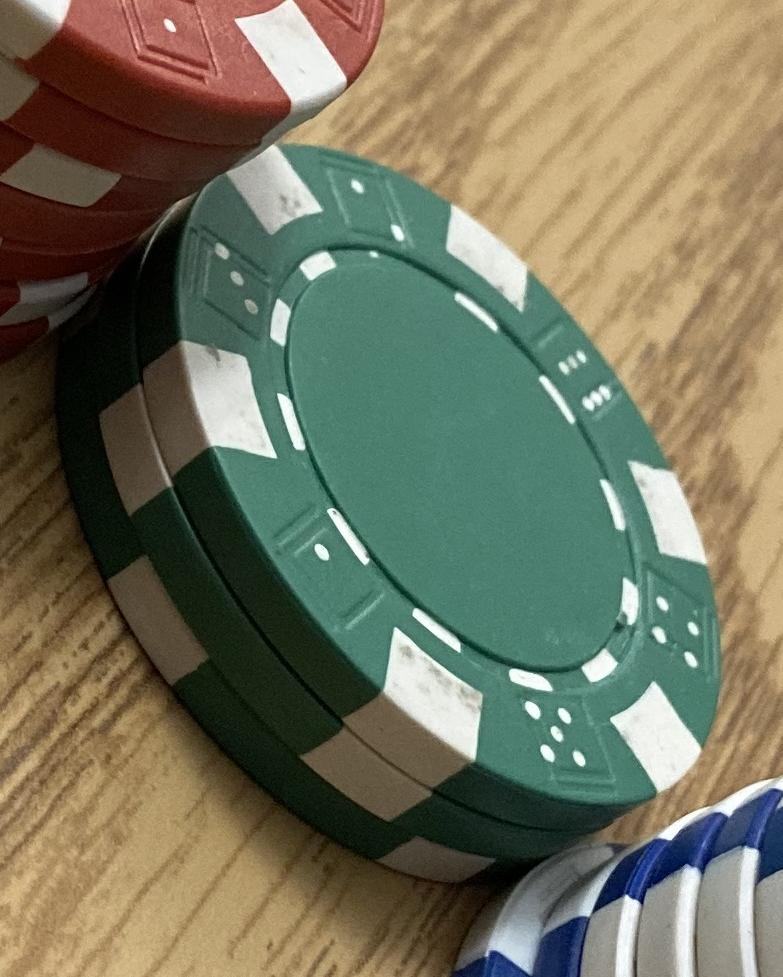Chip: (1, 1, 783, 977)
